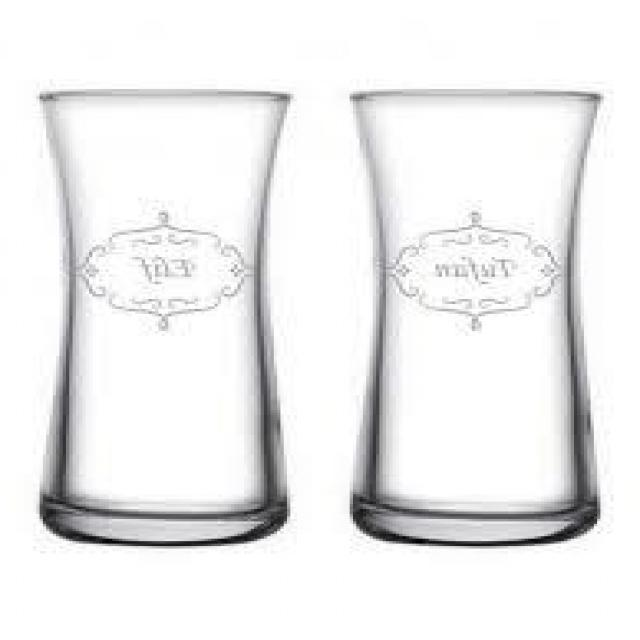glass: (347, 85, 610, 548)
